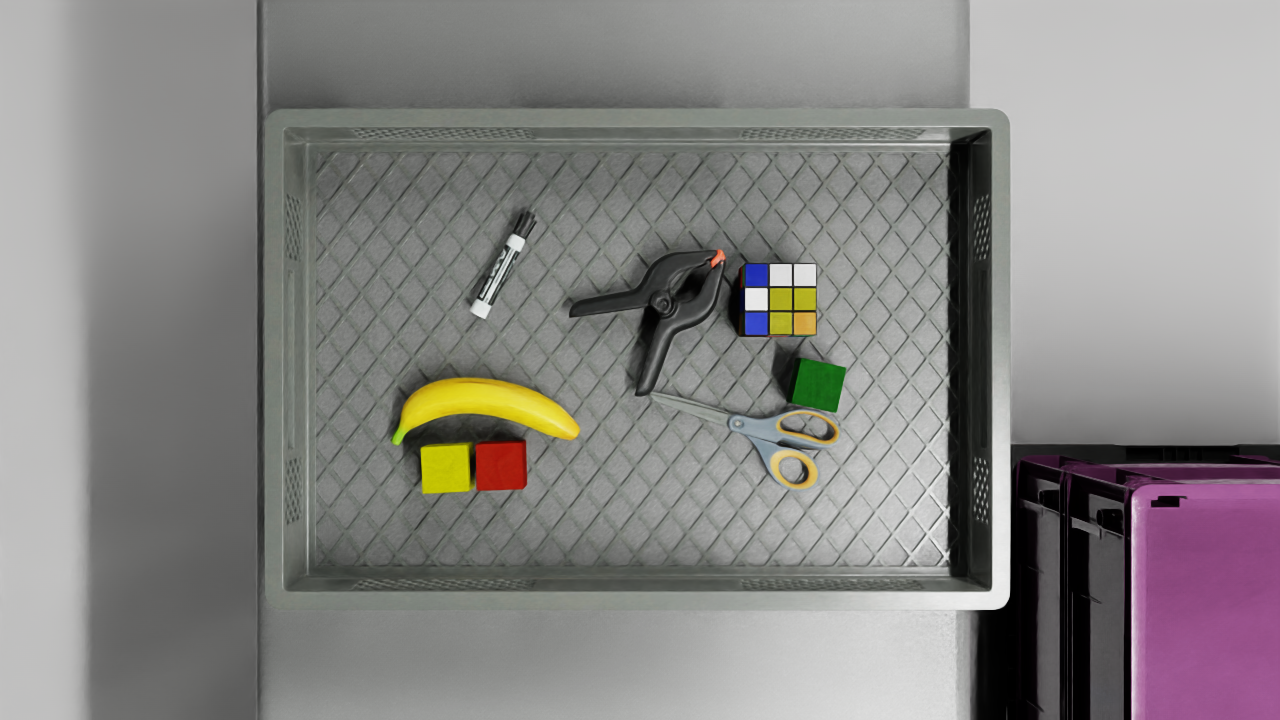yellow_cube: (418, 439, 473, 497)
